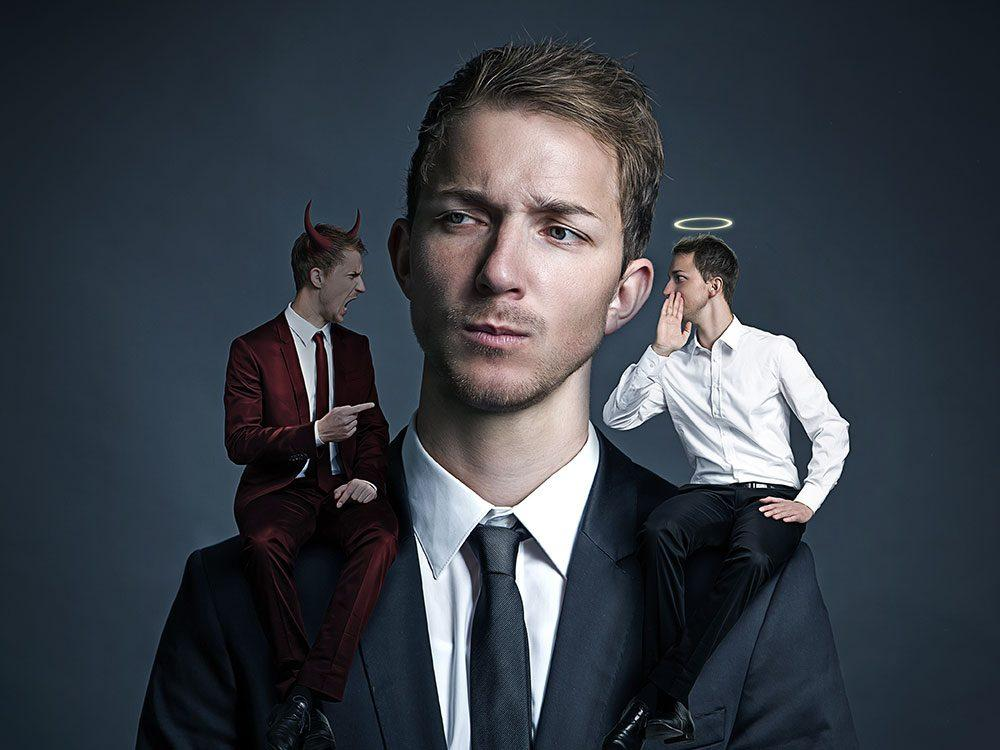Persons: (379, 34, 680, 421), (646, 191, 804, 394), (277, 187, 393, 350)
